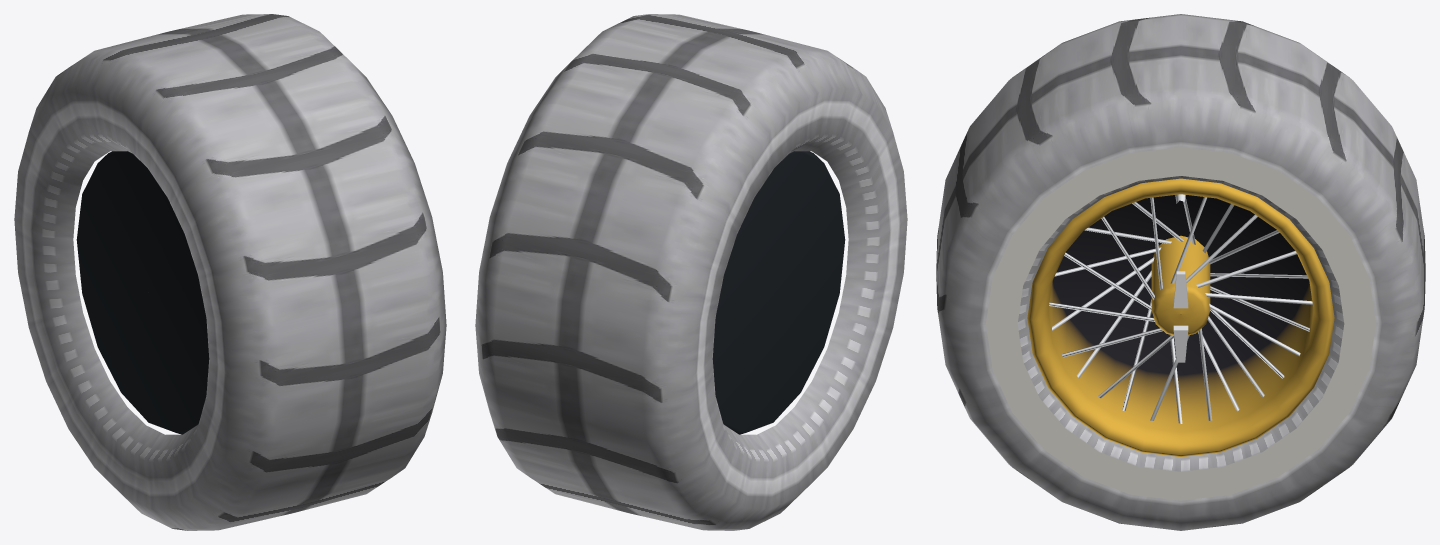
File: raios.glb
3 views of the same model, side by side, from view 1: azimuth 30°, elevation 25°; view 2: azimuth 150°, elevation 25°; view 3: azimuth 270°, elevation 25° (orthographic).
Visible parts, largest first — view 1: tire; view 2: tire; view 3: tire.
Boxes of the visible parts, x1,y1,x2,y2 form: tire: (14, 14, 446, 530); tire: (475, 14, 907, 530); tire: (936, 14, 1425, 530).
Bounding box in the file's own units: 1 × 2 × 2.
6 materials, 1 textured.
